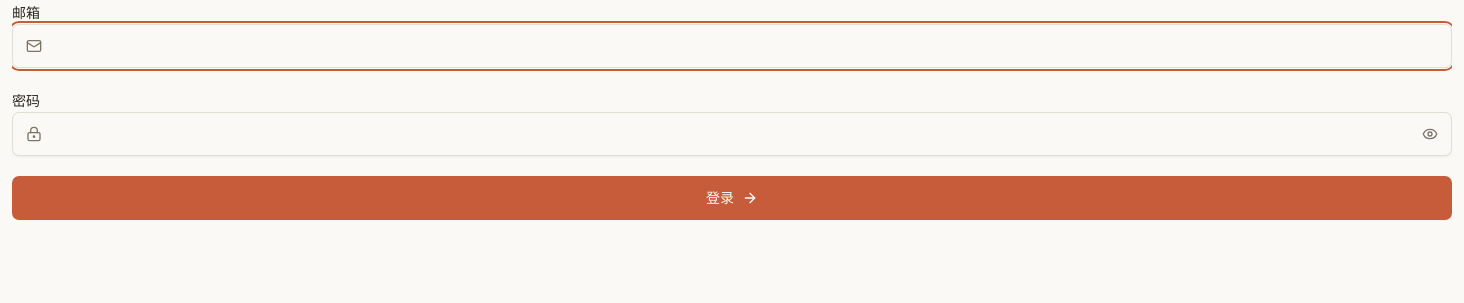
Test: AuthForm localized server diagnostics › localizes a wrong-password response in Chinese
Type "user@example.com" into the field labelled "邮箱" at (732, 46), box [12,24,1452,68]
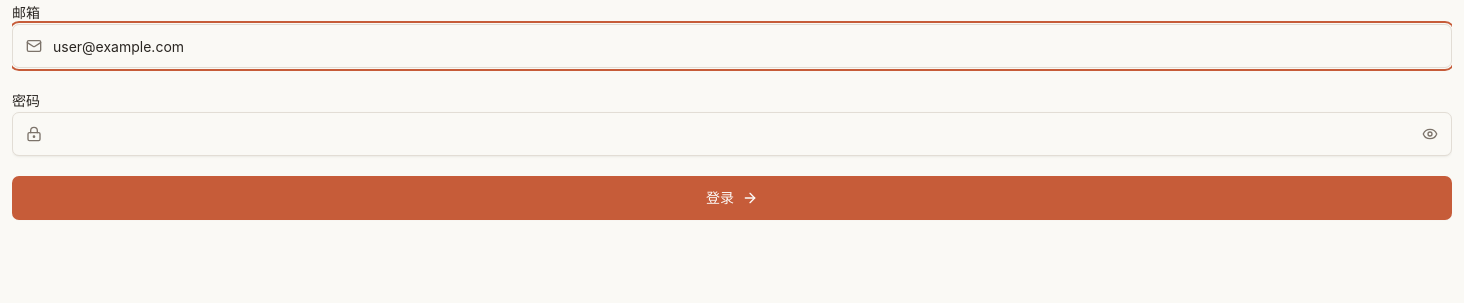
Type "wrong-password" into the password field labelled "密码" at (732, 134), box [12,112,1452,156]
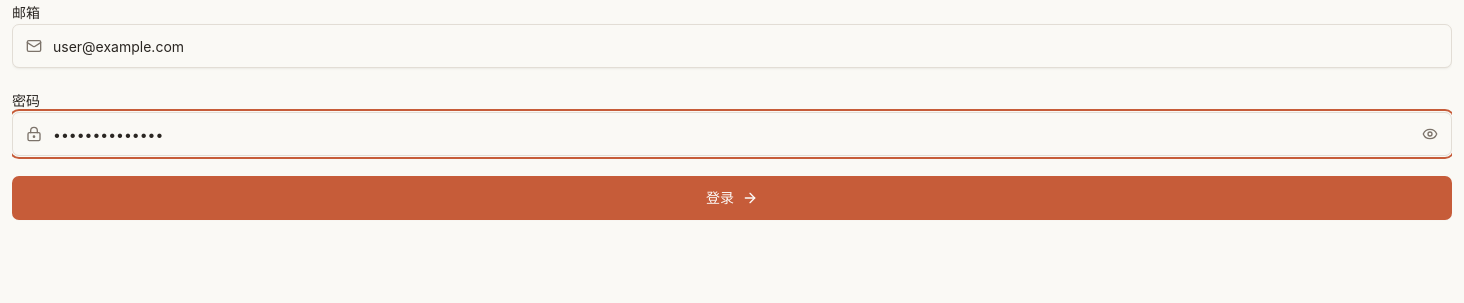
Click the button "登录" at (732, 198), box [12,176,1452,220]
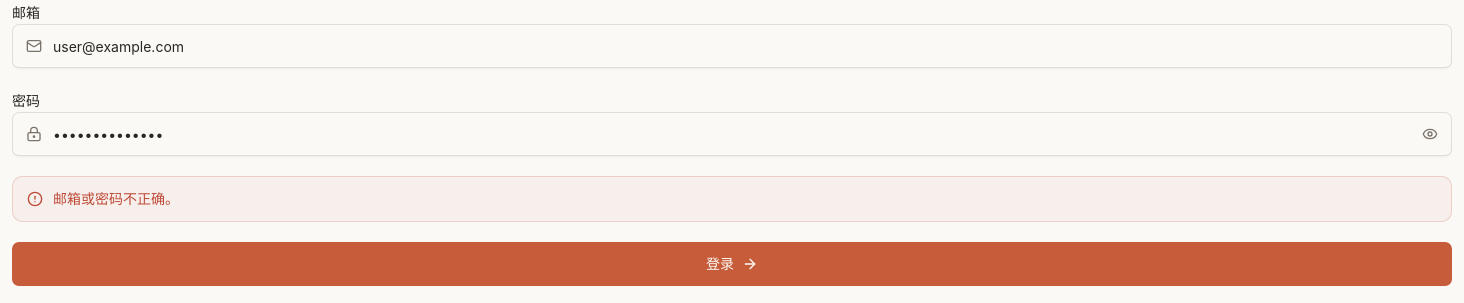
expect the message reads "邮箱或密码不正确。": met, box [53,190,179,207]
